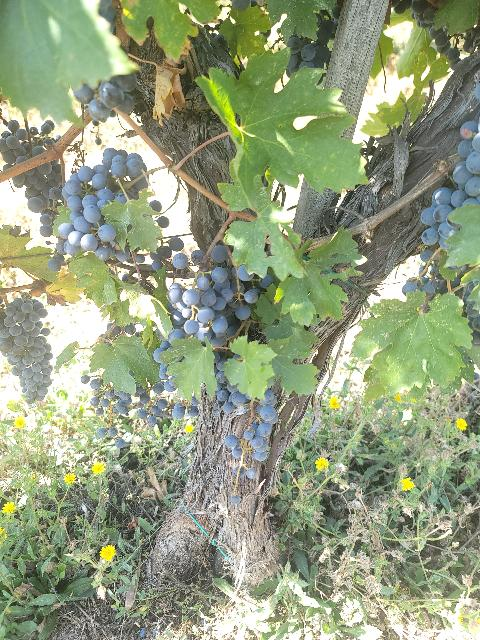grapes: (161, 245, 274, 365), (56, 149, 149, 260), (0, 119, 63, 238), (0, 292, 52, 404)
